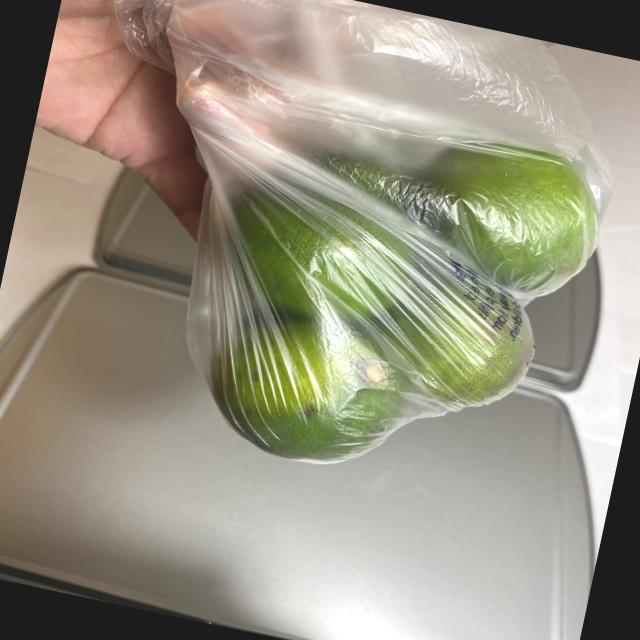lemon: (175, 74, 614, 511)
